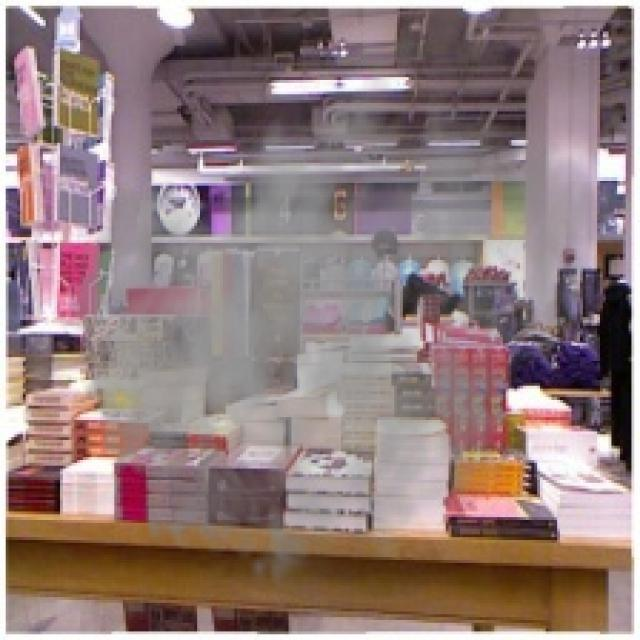Smoke: (60, 40, 603, 606)
